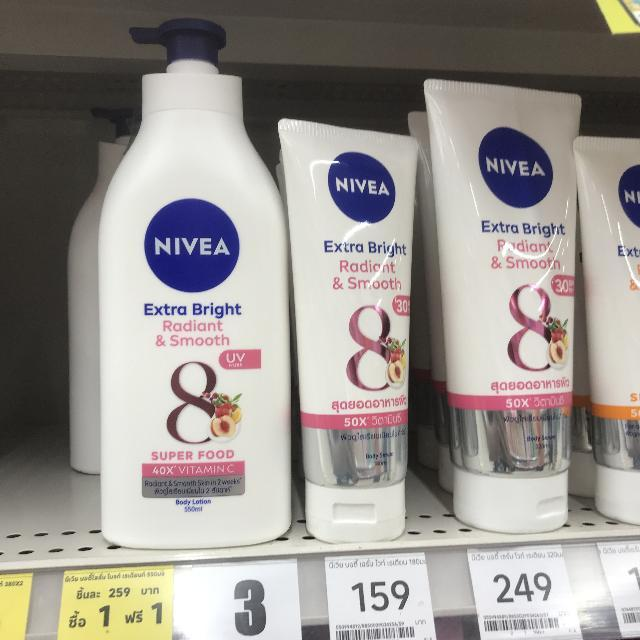Squeeze Tube: (64, 10, 300, 547), (409, 58, 585, 552), (279, 114, 422, 548), (568, 112, 640, 630)
